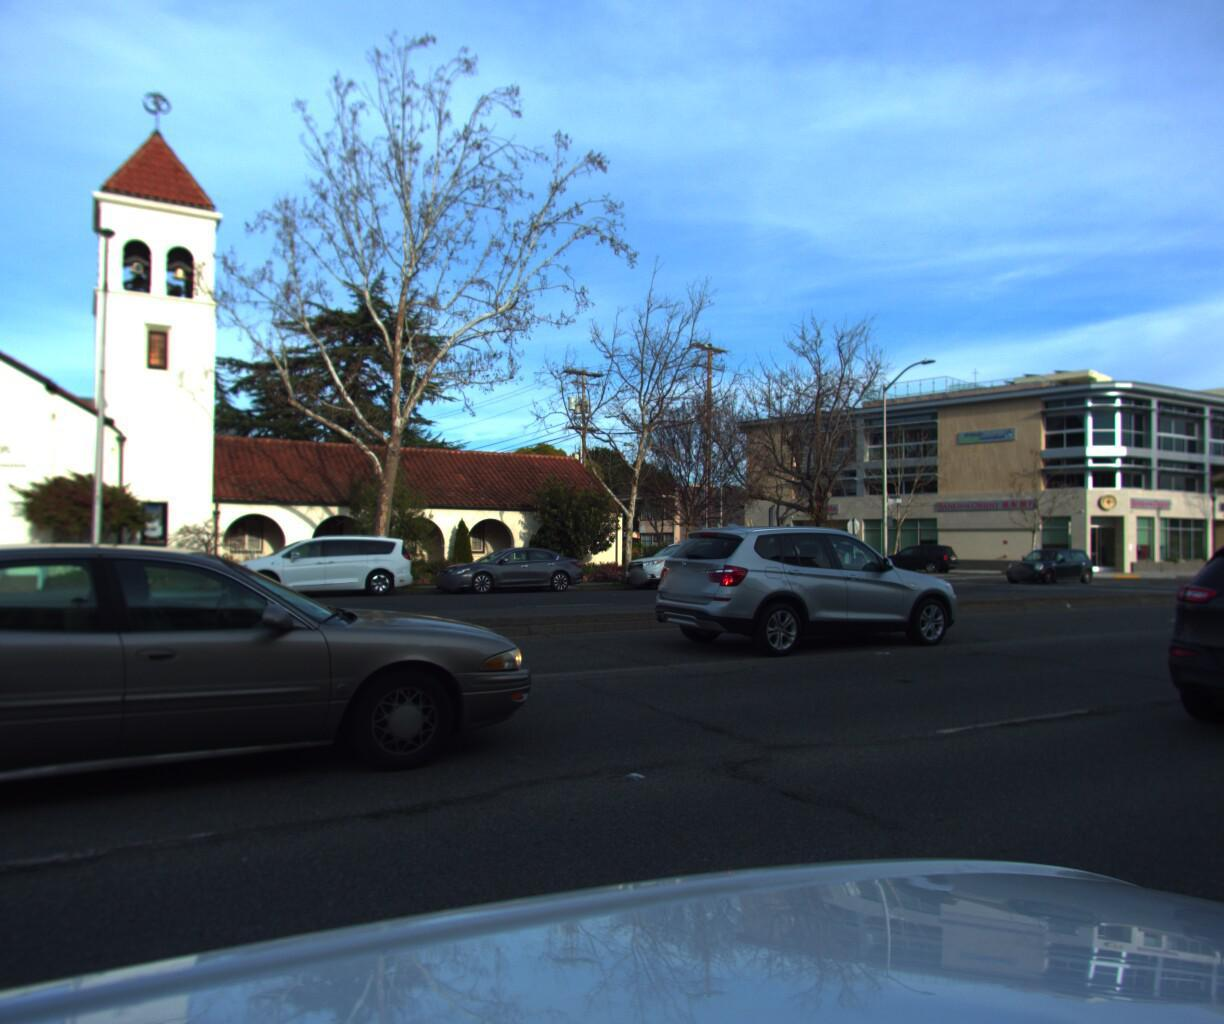car: (0, 537, 567, 910), (623, 517, 948, 666), (1118, 529, 1224, 793), (210, 531, 420, 602), (421, 544, 592, 596), (611, 534, 758, 590), (995, 543, 1097, 582), (876, 539, 959, 571)
